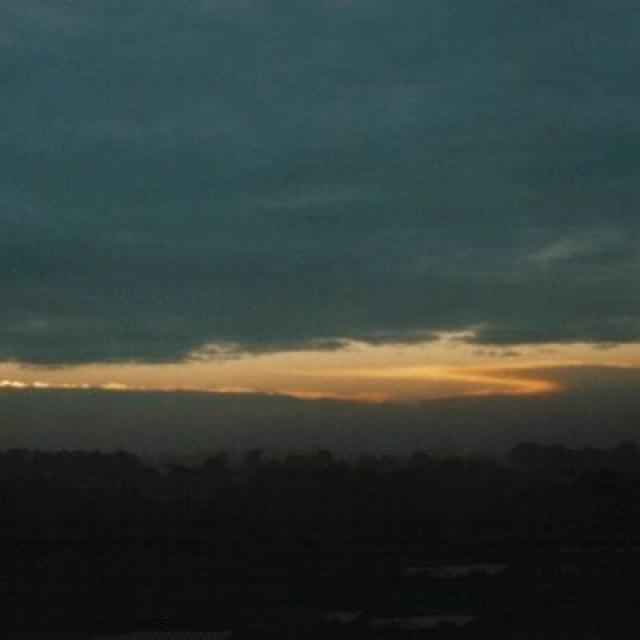Sc: (1, 1, 639, 383)
